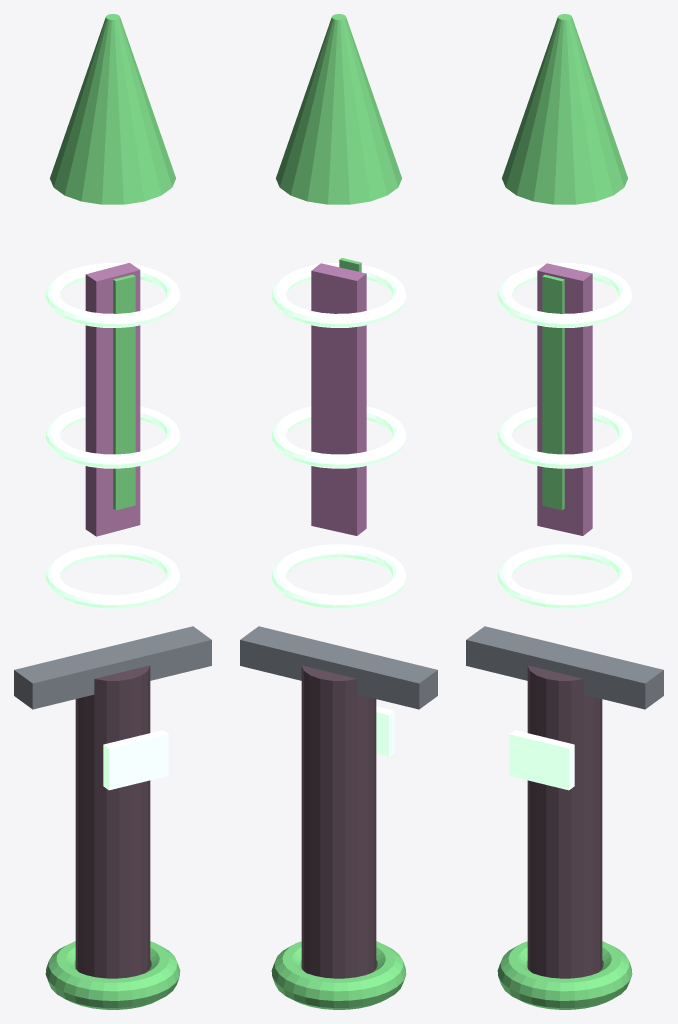
File: asset.glb
3 views of the same model, side by side, from view 1: azimuth 30°, elevation 25°; view 2: azimuth 150°, elevation 25°; view 3: azimuth 330°, elevation 25° (orthographic).
Parts seen in each view (by area): view 1: Grip, BladeTip, BladeCore, Guard, Pommel, BladeEdge, EnergyBand_1.18, EnergyBand_2.26, EnergyBand_1.72, IdentityPlate; view 2: Grip, BladeTip, BladeCore, Guard, Pommel, EnergyBand_1.18, EnergyBand_2.26, EnergyBand_1.72, IdentityPlate; view 3: Grip, BladeTip, BladeCore, Guard, Pommel, BladeEdge, EnergyBand_1.18, EnergyBand_2.26, EnergyBand_1.72, IdentityPlate.
Boxes of the visible parts, x1,y1,x2,y2 form: Grip: (75, 665, 150, 978); BladeTip: (50, 14, 175, 204); BladeCore: (85, 263, 140, 536); Guard: (14, 626, 211, 709); Pommel: (45, 941, 180, 1009); BladeEdge: (113, 274, 135, 510); EnergyBand_1.18: (45, 544, 180, 609); EnergyBand_2.26: (45, 263, 180, 327); EnergyBand_1.72: (45, 406, 180, 468); IdentityPlate: (103, 730, 168, 790); Grip: (301, 665, 376, 978); BladeTip: (276, 14, 401, 204); BladeCore: (311, 263, 366, 535); Guard: (240, 626, 437, 709); Pommel: (271, 941, 406, 1009); EnergyBand_1.18: (271, 544, 406, 609); EnergyBand_2.26: (271, 263, 406, 327); EnergyBand_1.72: (271, 406, 406, 468); IdentityPlate: (376, 706, 394, 756); Grip: (527, 665, 602, 978); BladeTip: (502, 14, 627, 204); BladeCore: (537, 263, 592, 535); Guard: (466, 626, 663, 709); Pommel: (497, 941, 632, 1009); BladeEdge: (542, 274, 564, 510); EnergyBand_1.18: (497, 544, 632, 609); EnergyBand_2.26: (497, 263, 632, 327); EnergyBand_1.72: (497, 406, 632, 468); IdentityPlate: (509, 730, 574, 790).
Bounding box in the file's own units: 0.72 × 3.72 × 0.47.
